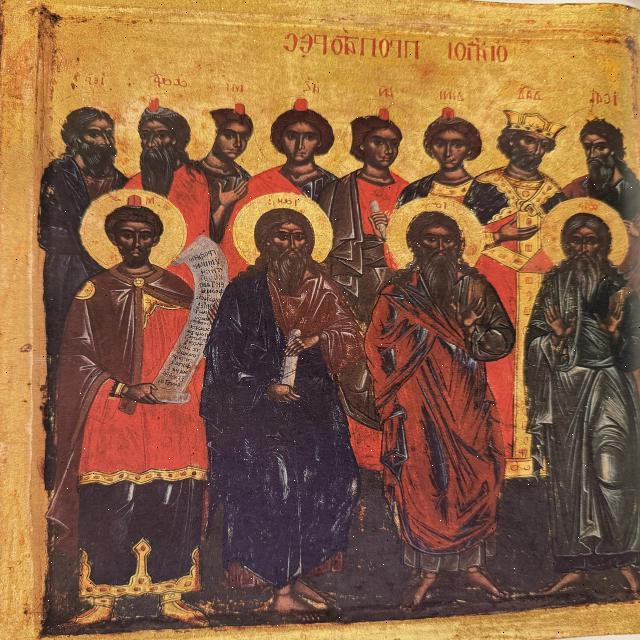aura: (81, 191, 186, 275), (232, 194, 336, 266), (386, 198, 488, 270), (541, 199, 629, 269)
crown: (498, 108, 570, 140)
saint: (57, 189, 216, 633), (357, 195, 507, 607), (202, 192, 350, 592), (524, 195, 638, 606)
scroll: (151, 234, 229, 406), (269, 327, 317, 395), (365, 196, 389, 242)
